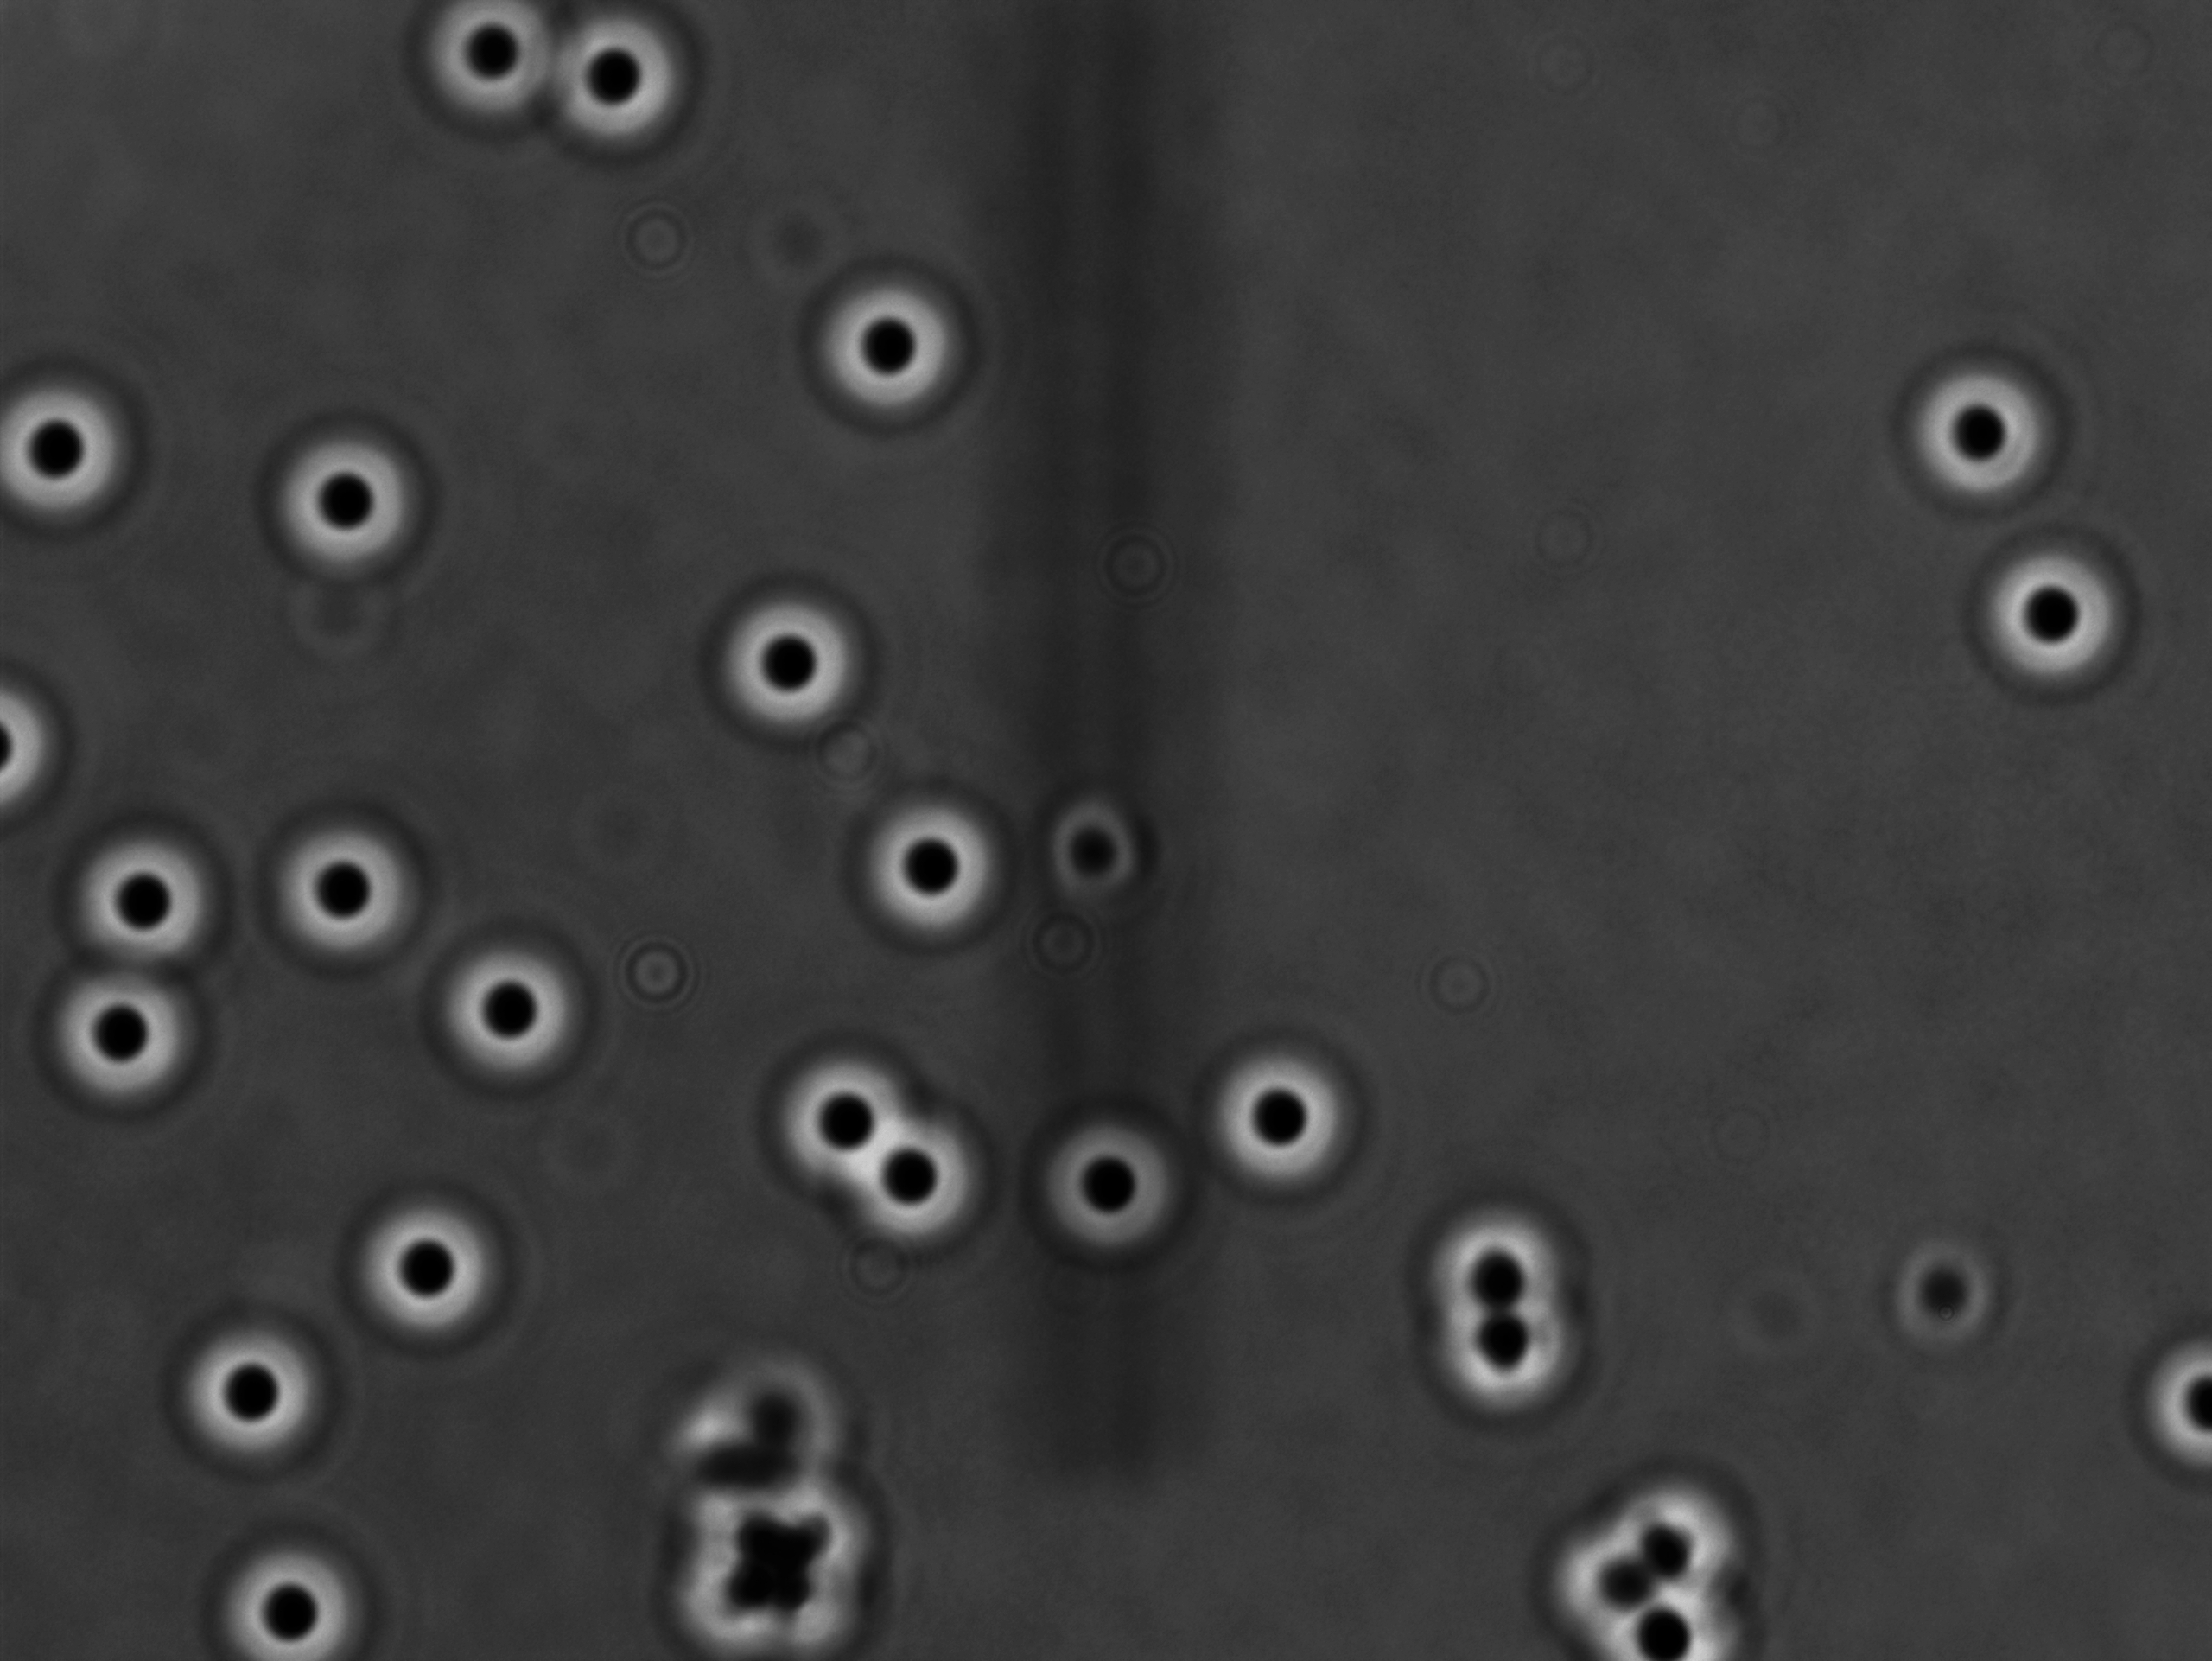depth:-60: (1957, 515, 2163, 726), (255, 787, 443, 982), (1394, 1171, 1591, 1354), (832, 780, 1024, 965), (31, 937, 223, 1122), (1877, 349, 2071, 525), (797, 253, 984, 434), (164, 1293, 356, 1467), (420, 913, 609, 1089), (1017, 1099, 1195, 1282), (335, 1174, 520, 1350), (691, 562, 865, 745), (260, 408, 443, 583), (1191, 1022, 1371, 1197), (52, 808, 237, 977), (764, 1022, 937, 1197), (1406, 1272, 1593, 1432), (837, 1101, 1012, 1267), (202, 1535, 382, 1661)
